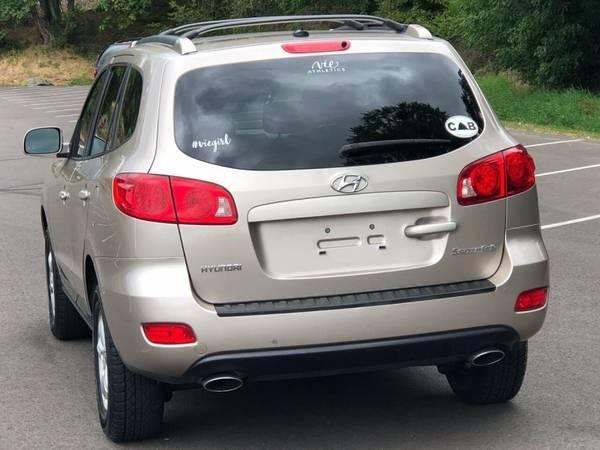Left_Mirror: (22, 127, 63, 156)
Left_Taillight: (297, 234, 422, 290), (115, 174, 239, 227)
Rear_Bumper: (94, 183, 547, 383)
Rear_Fender: (85, 64, 183, 259)
Rear_Windshield: (177, 52, 486, 169)
Right_Taillight: (457, 144, 537, 204)
Roof: (98, 28, 453, 177)
Tailgate: (162, 127, 517, 301)
Wheel: (93, 295, 167, 447), (440, 345, 527, 408)
